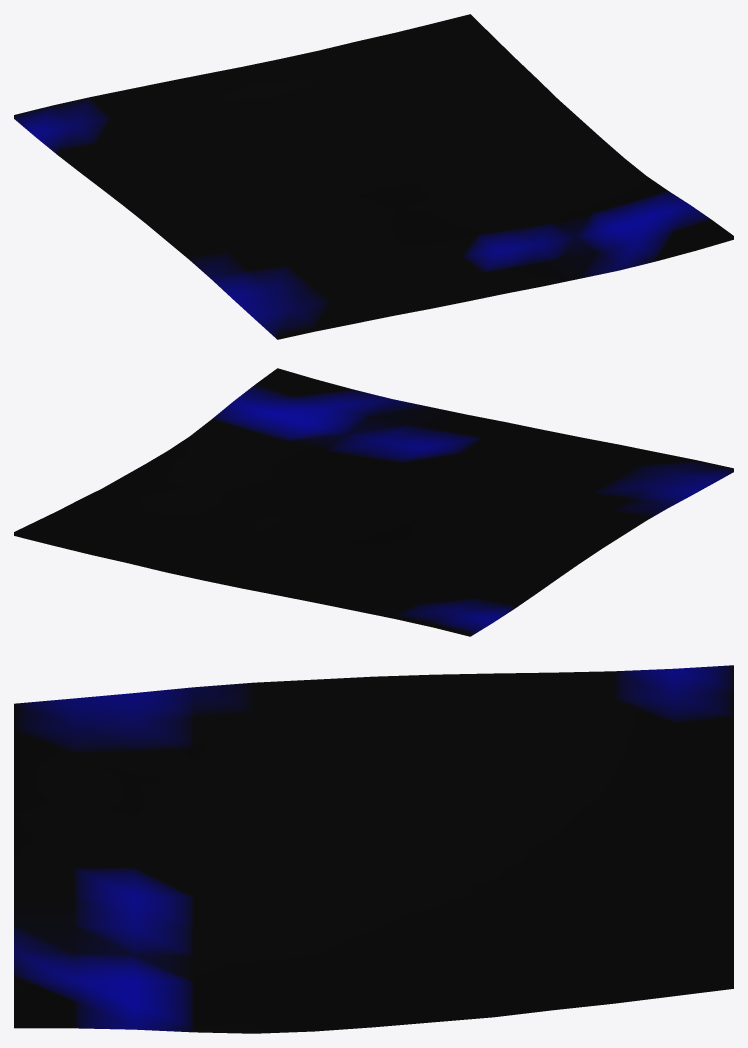
The model's file is coast_18_3.glb.
The picture shows the model from 3 angles, top to bottom: view 1: azimuth 30°, elevation 25°; view 2: azimuth 150°, elevation 25°; view 3: azimuth 270°, elevation 25°; orthographic projection. The views are drawn at different scales.
Visible parts, largest first — view 1: terrain; view 2: terrain; view 3: terrain.
Boxes of the visible parts, x1,y1,x2,y2 form: terrain: [14, 14, 733, 339]; terrain: [14, 368, 733, 636]; terrain: [14, 665, 733, 1033].
Bounding box in the file's own units: 192 × 18.97 × 192.
